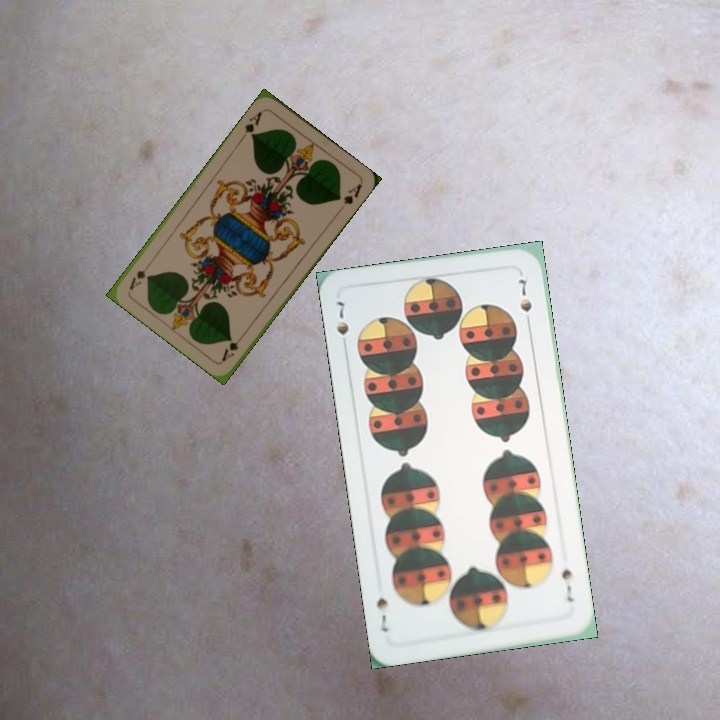GA: (237, 107, 267, 142), (218, 330, 248, 364)
S7: (332, 296, 352, 338), (557, 565, 577, 604)
